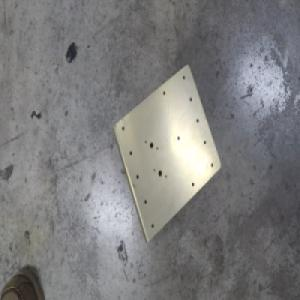MetalSheet: (110, 61, 222, 246)
